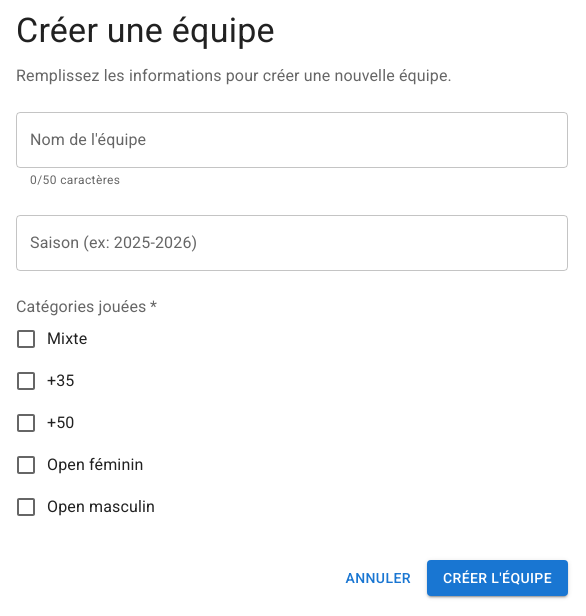
TeamCreationForm › devrait afficher le compteur de caractères du nom
Type "ABC" into the field labelled "Nom de l'équipe". click: point(292, 140)
box: [16,112,568,168]
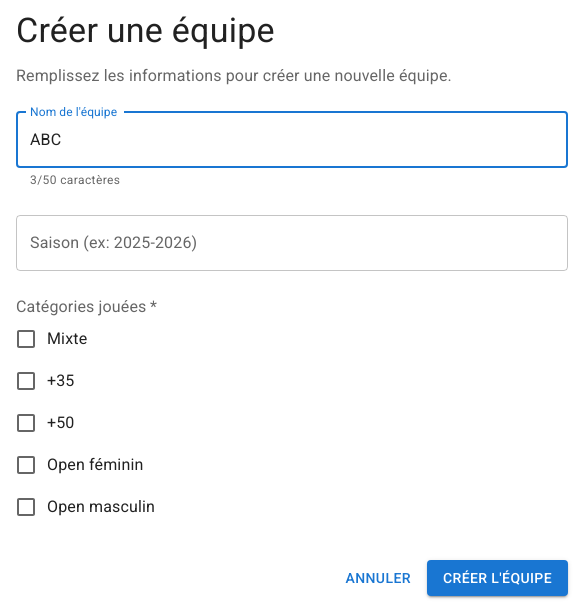
Expected: the text "3/50 caractères" is shown, [30,173,120,187]
